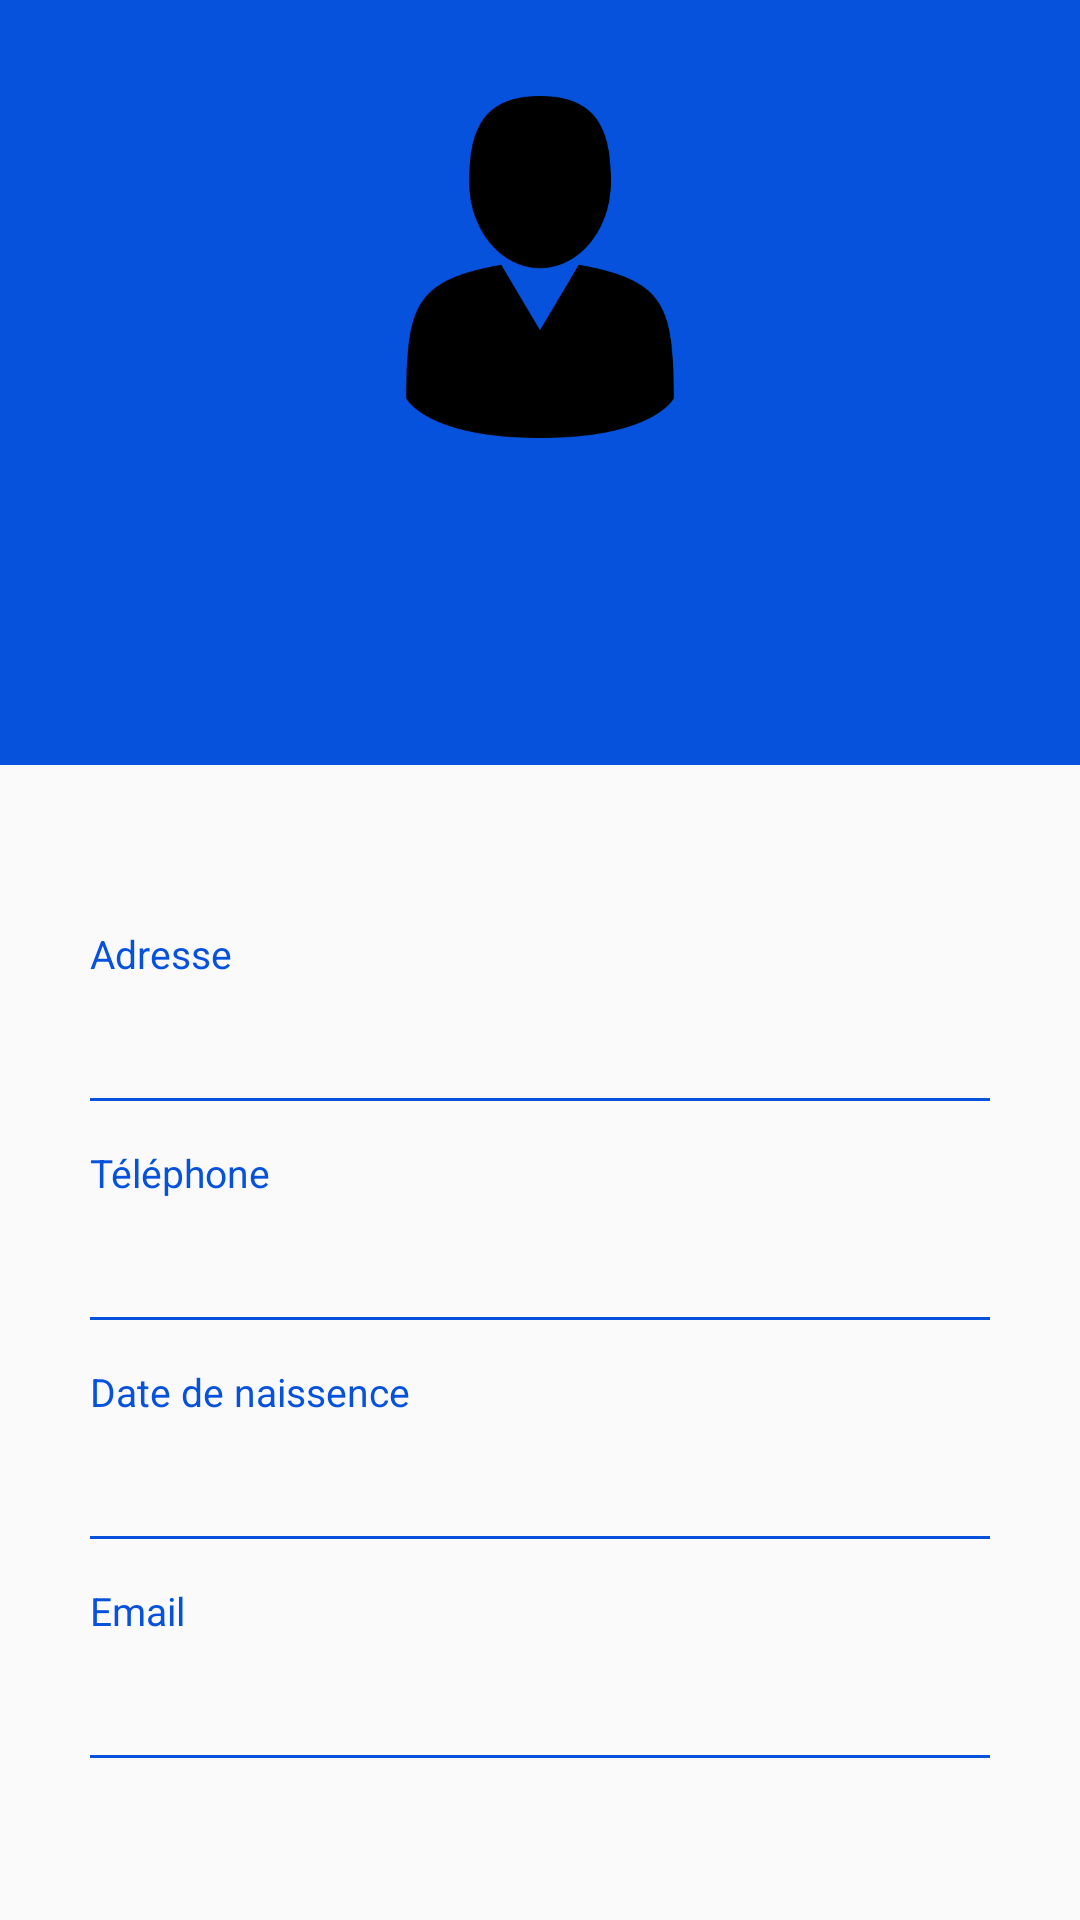

Named icons in this screenshot (1080w x 1920h) and their bounding boxes, [x1=x1, y1=y1, x2=x2, y2=y2]:
profile: [x1=406, y1=96, x2=674, y2=438]
